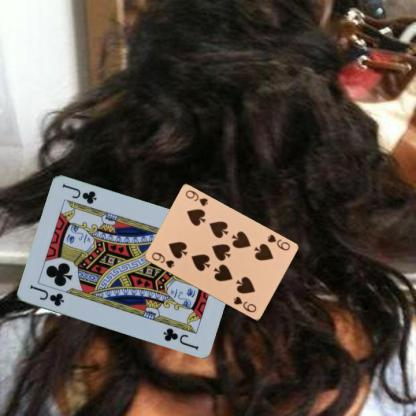9s: (149, 249, 175, 270), (264, 232, 291, 252)
Jc: (27, 282, 65, 308)
